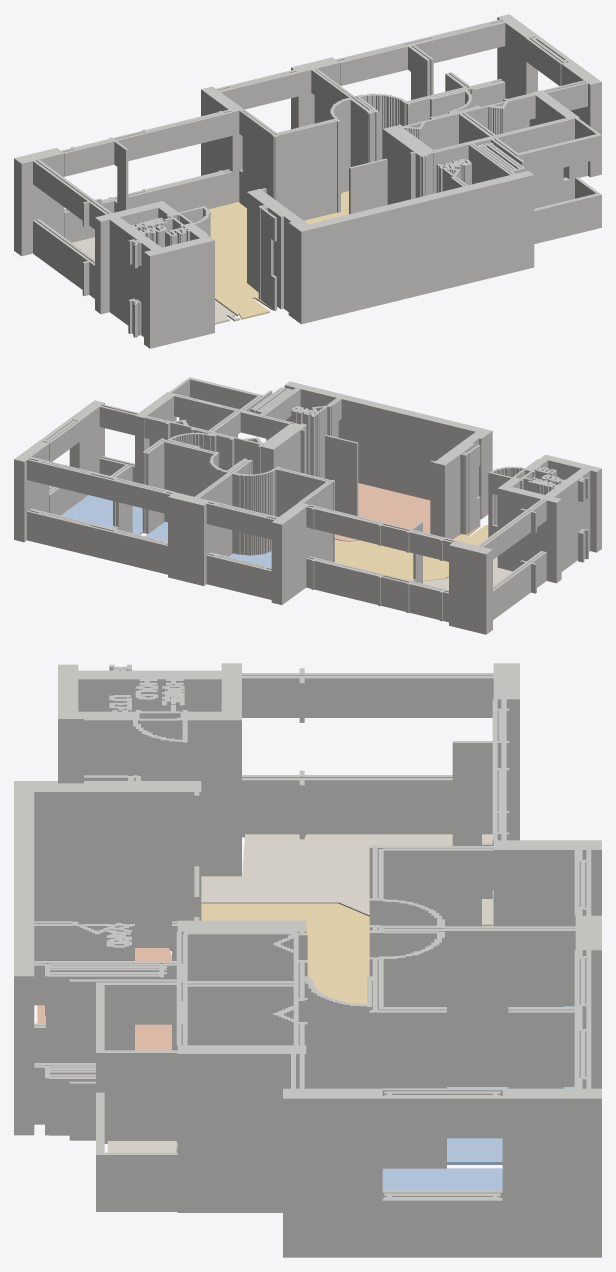
The picture shows the model from 3 angles, top to bottom: view 1: azimuth 30°, elevation 25°; view 2: azimuth 150°, elevation 25°; view 3: azimuth 270°, elevation 25°; orthographic projection. The views are drawn at different scales.
Visible parts, largest first — view 1: walls, room:living:1, room:other:0; view 2: walls, room:living:1, room:kitchen:6, room:bedroom:4, room:other:0, room:bedroom:2; view 3: walls, room:other:0, room:living:1, room:bedroom:4, room:bedroom:3, room:kitchen:6, room:other:10.
Part boxes in pixels (bbox=[...]): walls: bbox=[14, 14, 601, 348]; room:living:1: bbox=[208, 191, 348, 319]; room:other:0: bbox=[72, 237, 240, 324]; walls: bbox=[14, 377, 601, 634]; room:living:1: bbox=[334, 525, 488, 581]; room:kitchen:6: bbox=[335, 483, 430, 541]; room:bedroom:4: bbox=[61, 495, 142, 534]; room:other:0: bbox=[423, 557, 512, 589]; room:bedroom:2: bbox=[229, 551, 271, 566]; walls: bbox=[14, 663, 601, 1257]; room:other:0: bbox=[201, 834, 492, 925]; room:living:1: bbox=[201, 903, 492, 1004]; room:bedroom:4: bbox=[382, 1168, 502, 1190]; room:bedroom:3: bbox=[447, 1087, 574, 1164]; room:kitchen:6: bbox=[37, 948, 171, 1050]; room:other:10: bbox=[107, 1141, 176, 1152].
Bounding box in the file's own units: 16.44 × 2.8 × 9.39.
